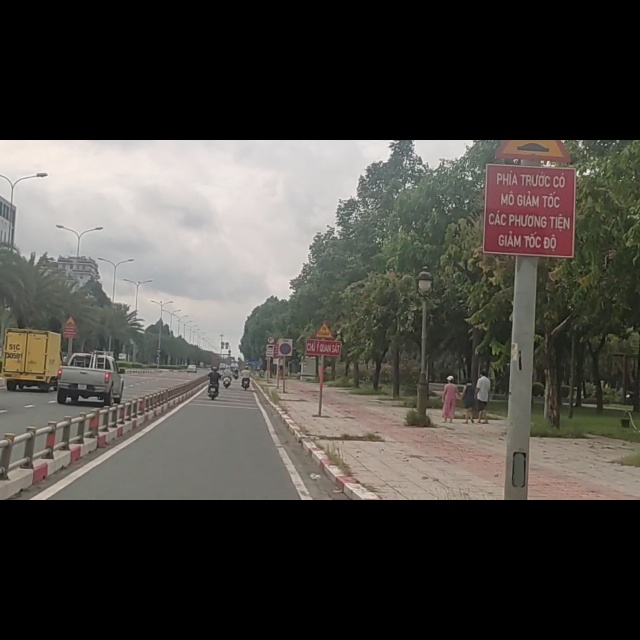bien_nguy_hiem: (313, 322, 335, 354), (279, 352, 292, 385), (267, 350, 275, 361)
